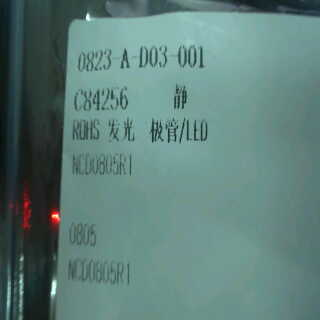LED: (105, 114, 212, 151)
